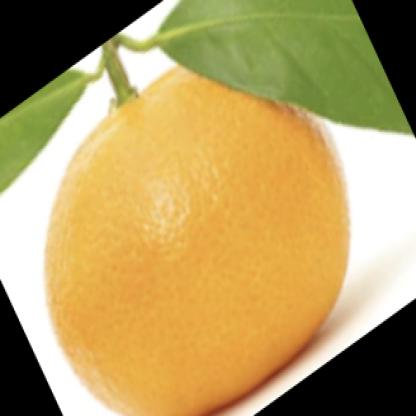fresh: (44, 53, 351, 416)
